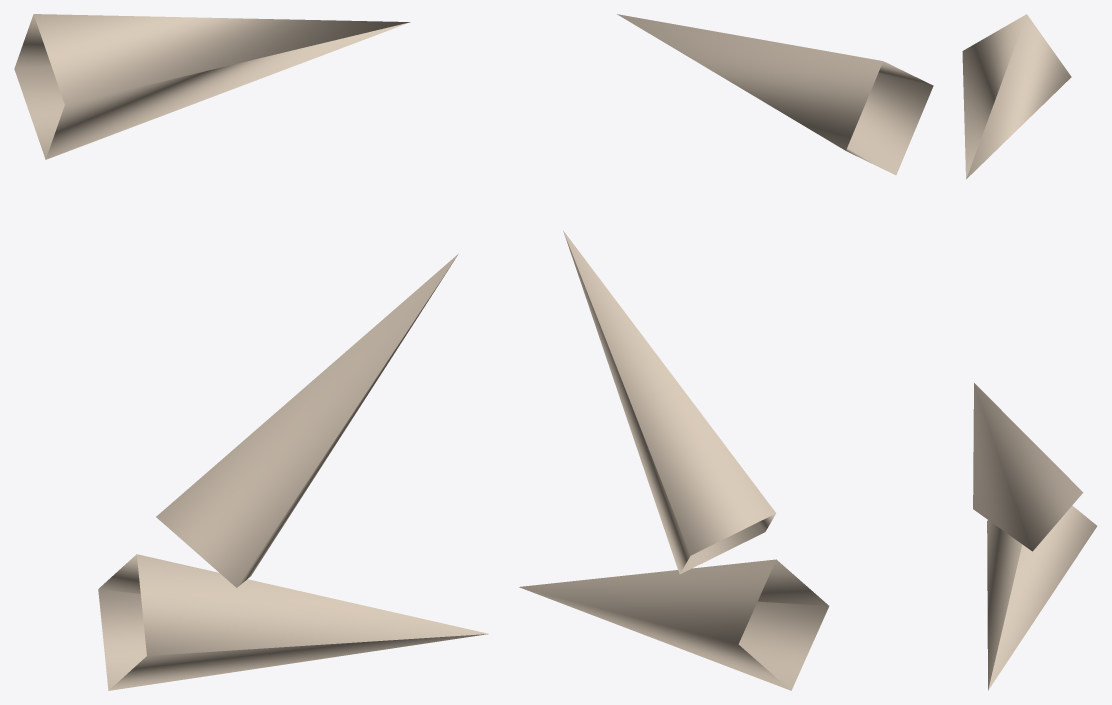
3 views of the same model, side by side, from view 1: azimuth 30°, elevation 25°; view 2: azimuth 150°, elevation 25°; view 3: azimuth 270°, elevation 25° (orthographic). The views are drawn at different scales.
Visible parts, largest first — view 1: Object50; view 2: Object50; view 3: Object50.
Boxes of the visible parts, bbox=[...] form: Object50: bbox=[14, 14, 488, 690]; Object50: bbox=[519, 14, 933, 690]; Object50: bbox=[962, 14, 1097, 690].
Size of the model in its own units: 9339 by 14298 by 3340.
